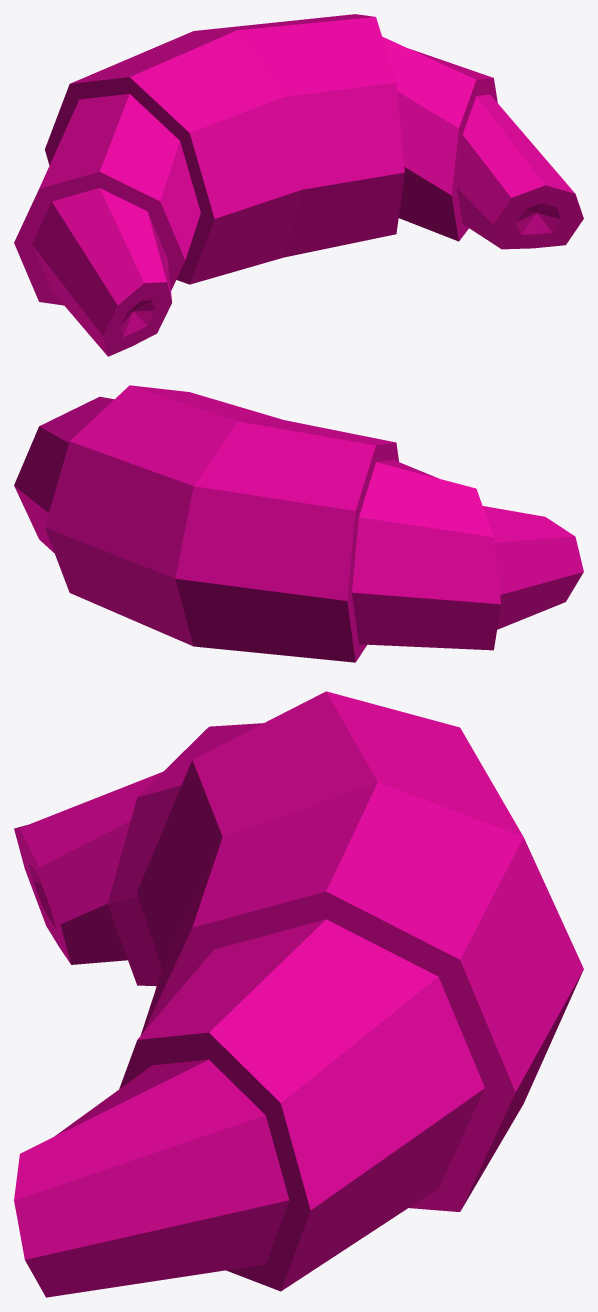
Rendered from Croissant_01.fbx.
The picture shows the model from 3 angles, top to bottom: view 1: azimuth 30°, elevation 25°; view 2: azimuth 150°, elevation 25°; view 3: azimuth 270°, elevation 25°; orthographic projection. The views are drawn at different scales.
Visible parts, largest first — view 1: Croissant_01; view 2: Croissant_01; view 3: Croissant_01.
Boxes of the visible parts, bbox=[...] form: Croissant_01: bbox=[14, 14, 583, 356]; Croissant_01: bbox=[14, 385, 583, 662]; Croissant_01: bbox=[14, 691, 583, 1297].
Size of the model in its own units: 7.24 by 2.81 by 4.41.
